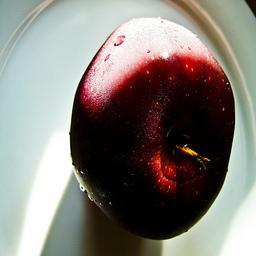apple: (67, 16, 237, 241)
